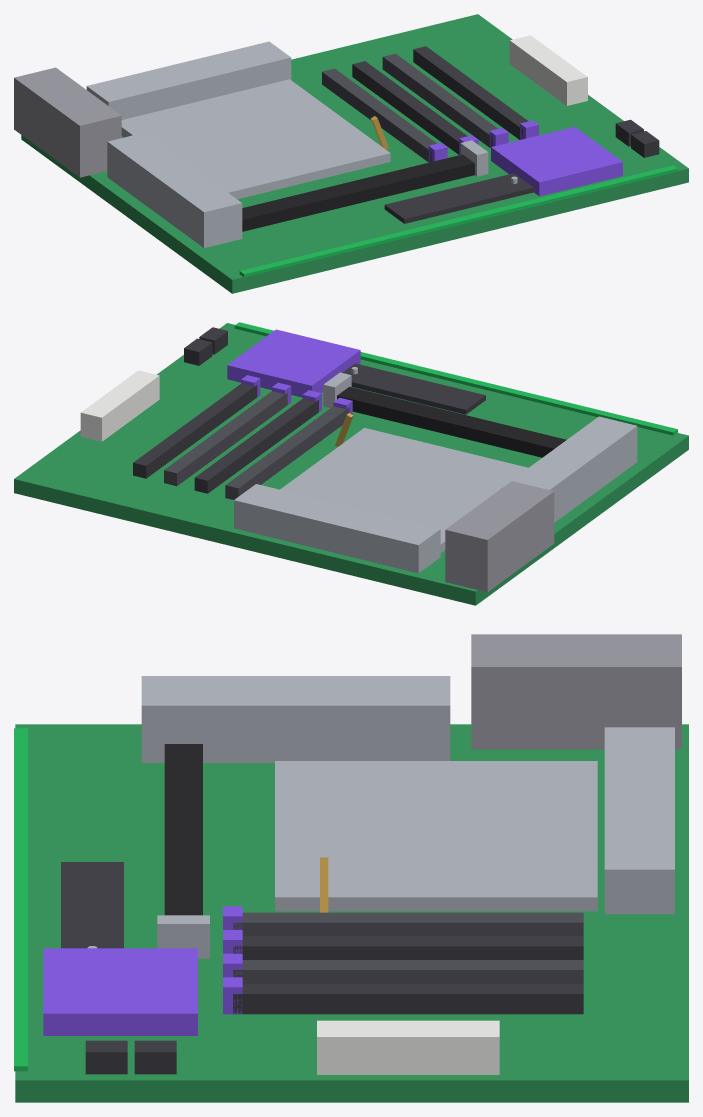
File: mobo.fbx
3 views of the same model, one above another, from view 1: azimuth 30°, elevation 25°; view 2: azimuth 150°, elevation 25°; view 3: azimuth 270°, elevation 25° (orthographic). The views are drawn at different scales.
Parts seen in each view (by area): view 1: mobo_0, mobo_9, mobo_2, mobo_3, mobo_1, mobo_4, mobo_22, mobo_8, mobo_20, mobo_5, mobo_16, mobo_18 (+5 smaller); view 2: mobo_0, mobo_9, mobo_1, mobo_3, mobo_2, mobo_4, mobo_22, mobo_20, mobo_5, mobo_14, mobo_18, mobo_16 (+5 smaller); view 3: mobo_0, mobo_9, mobo_2, mobo_3, mobo_4, mobo_1, mobo_18, mobo_5, mobo_12, mobo_14, mobo_16, mobo_22 (+5 smaller).
Part boxes in pixels (bbox=[...]): mobo_0: bbox=[21, 14, 688, 293]; mobo_9: bbox=[121, 79, 390, 199]; mobo_2: bbox=[107, 132, 242, 247]; mobo_3: bbox=[14, 67, 121, 177]; mobo_1: bbox=[86, 41, 291, 119]; mobo_4: bbox=[491, 126, 622, 196]; mobo_22: bbox=[242, 154, 474, 231]; mobo_8: bbox=[239, 165, 677, 277]; mobo_20: bbox=[384, 173, 533, 223]; mobo_5: bbox=[509, 35, 587, 105]; mobo_16: bbox=[382, 53, 497, 147]; mobo_18: bbox=[413, 46, 528, 139]; mobo_0: bbox=[14, 323, 688, 605]; mobo_9: bbox=[280, 428, 528, 552]; mobo_1: bbox=[234, 484, 440, 573]; mobo_3: bbox=[445, 481, 554, 592]; mobo_2: bbox=[501, 416, 637, 522]; mobo_4: bbox=[227, 329, 360, 397]; mobo_22: bbox=[337, 386, 566, 457]; mobo_20: bbox=[342, 363, 485, 414]; mobo_5: bbox=[80, 370, 159, 441]; mobo_14: bbox=[194, 398, 318, 493]; mobo_18: bbox=[133, 383, 257, 478]; mobo_16: bbox=[164, 391, 287, 486]; mobo_0: bbox=[15, 724, 688, 1102]; mobo_9: bbox=[275, 761, 597, 911]; mobo_2: bbox=[141, 676, 450, 762]; mobo_3: bbox=[471, 634, 681, 749]; mobo_4: bbox=[43, 948, 197, 1035]; mobo_1: bbox=[604, 727, 674, 914]; mobo_18: bbox=[233, 983, 583, 1014]; mobo_5: bbox=[317, 1020, 499, 1074]; mobo_12: bbox=[233, 912, 583, 936]; mobo_14: bbox=[233, 936, 583, 959]; mobo_16: bbox=[233, 960, 583, 983]; mobo_22: bbox=[164, 744, 202, 915].
Size of the model in its own units: 12.25 by 1.65 by 9.62.
